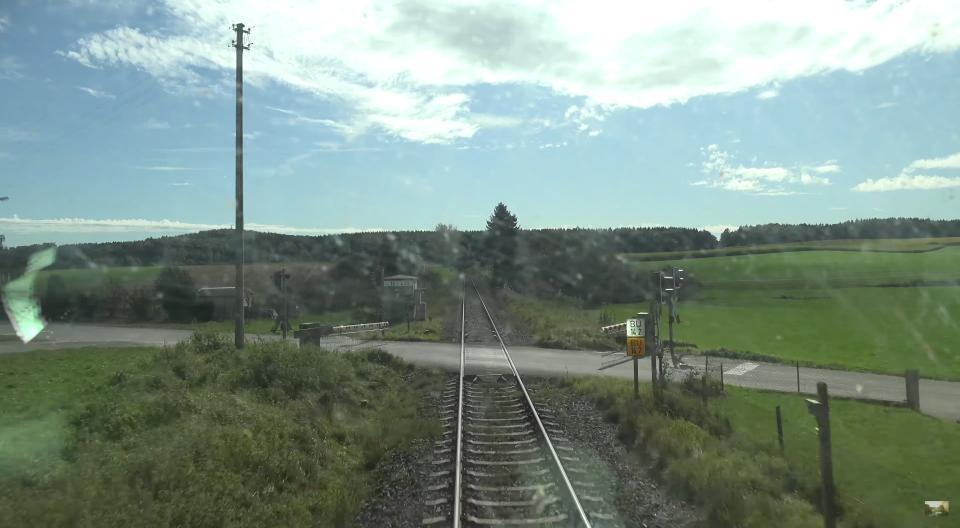Plant: (363, 369, 447, 476), (523, 375, 581, 403)
